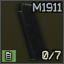M1911A1 .45 ACP 7-round magazine: (0, 0, 64, 64)
